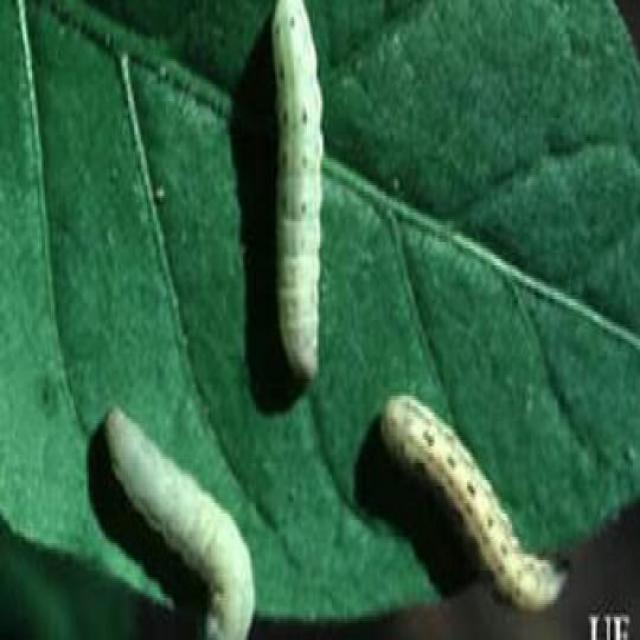BeetArmyWorm-Larva-: (376, 382, 572, 617), (104, 402, 258, 638), (266, 2, 334, 387)
